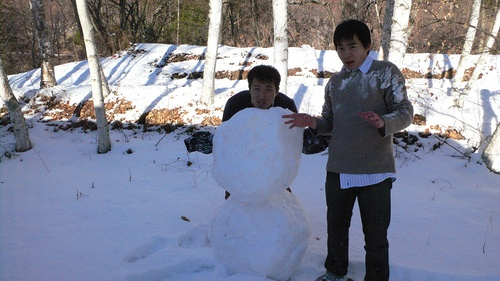head: (334, 19, 374, 72), (247, 64, 283, 114)
person: (296, 12, 411, 281), (219, 64, 297, 120)
